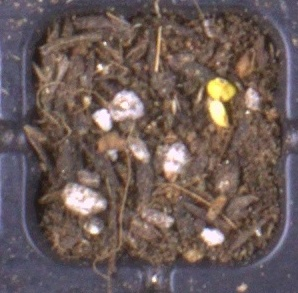chilli seed: (206, 77, 237, 102), (207, 99, 230, 129)
